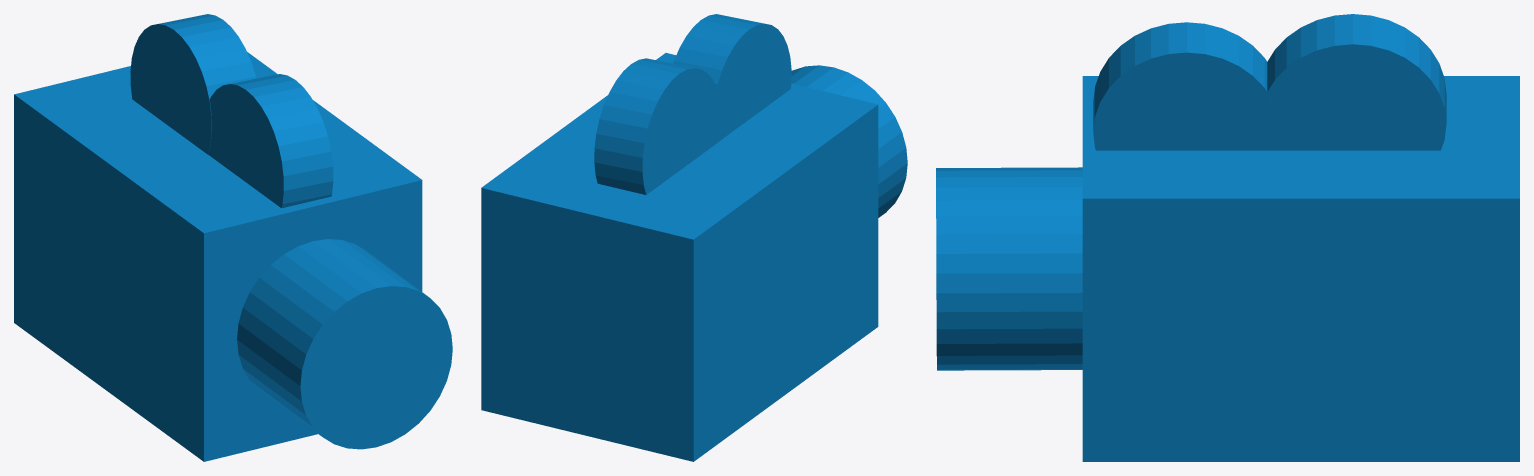
The model's file is Recorder.obj.
3 views of the same model, side by side, from view 1: azimuth 30°, elevation 25°; view 2: azimuth 150°, elevation 25°; view 3: azimuth 270°, elevation 25° (orthographic). The views are drawn at different scales.
Parts seen in each view (by area): view 1: Handle; view 2: Handle; view 3: Handle.
Part boxes in pixels (x1,y1,x2,y2): Handle: [14, 14, 452, 461]; Handle: [481, 14, 907, 461]; Handle: [936, 14, 1519, 461].
Bounding box in the file's own units: 0.4687 × 0.6661 × 0.9418.
